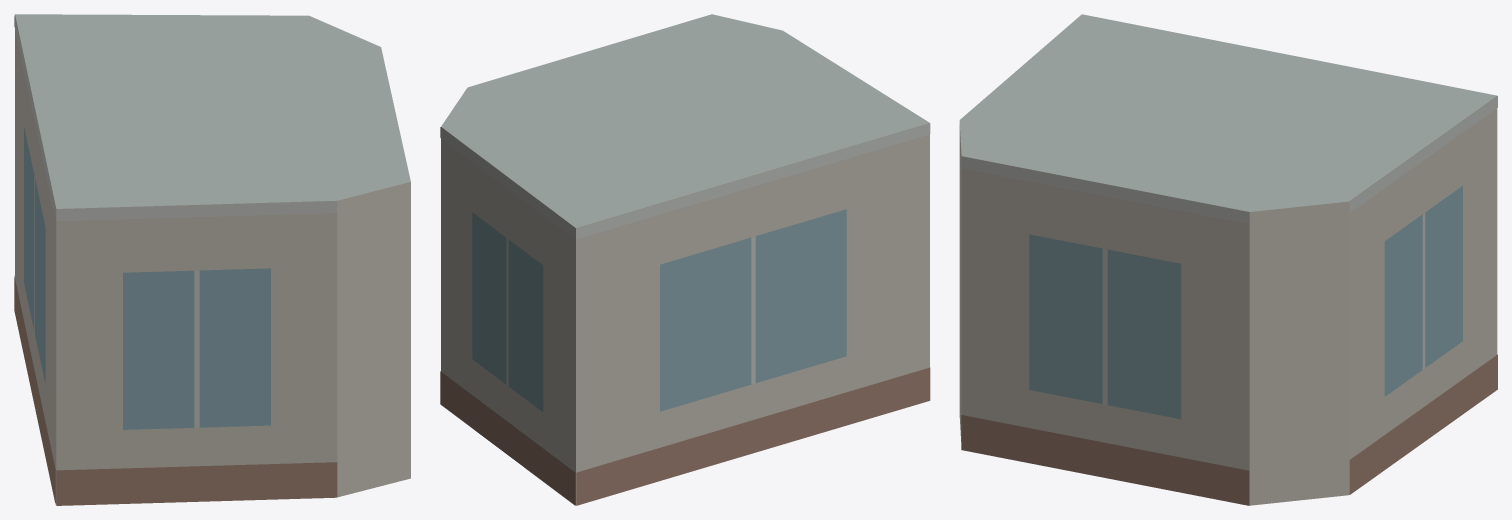
File: survey-upis-32543905.glb
3 renders of one model, left to right at view 1: azimuth 30°, elevation 25°; view 2: azimuth 150°, elevation 25°; view 3: azimuth 270°, elevation 25°, orthographic. The views are drawn at different scales.
Parts seen in each view (by area): view 1: survey-upis-32543905.tmp; view 2: survey-upis-32543905.tmp; view 3: survey-upis-32543905.tmp.
Boxes of the visible parts, bbox=[...] form: survey-upis-32543905.tmp: bbox=[14, 14, 410, 505]; survey-upis-32543905.tmp: bbox=[440, 14, 930, 505]; survey-upis-32543905.tmp: bbox=[959, 14, 1497, 505].
Bounding box in the file's own units: 4.42 × 3.05 × 5.07.
